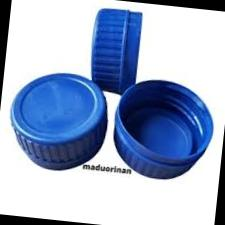Plastik: (113, 79, 213, 180), (9, 72, 107, 171), (90, 8, 143, 95)
